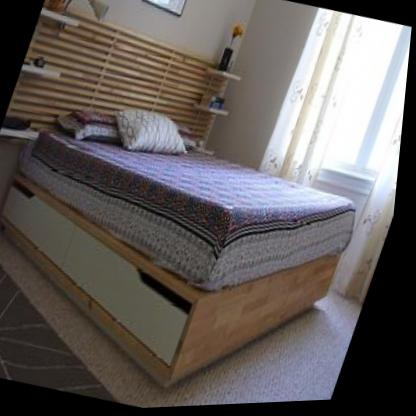Bed: (4, 113, 361, 390)
Carpet: (0, 269, 123, 404)
